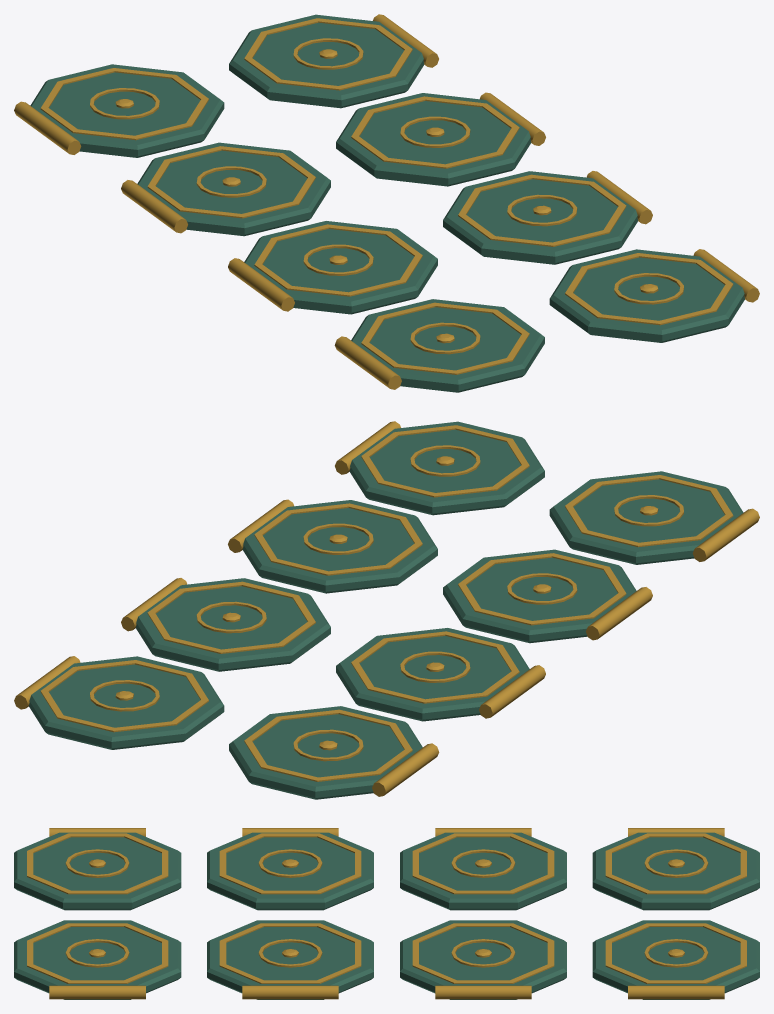
File: vls8_hatches.obj
3 renders of one model, top to bottom at view 1: azimuth 30°, elevation 25°; view 2: azimuth 150°, elevation 25°; view 3: azimuth 270°, elevation 25°, orthographic. The views are drawn at different scales.
Visible parts, largest first — view 1: vls8_hatches; view 2: vls8_hatches; view 3: vls8_hatches.
Part boxes in pixels (box(x1,y1,x2,y2)): vls8_hatches: box(14, 14, 759, 392); vls8_hatches: box(14, 421, 759, 799); vls8_hatches: box(14, 828, 759, 999).
Size of the model in its own units: 2.41 by 0.1028 by 4.64.
